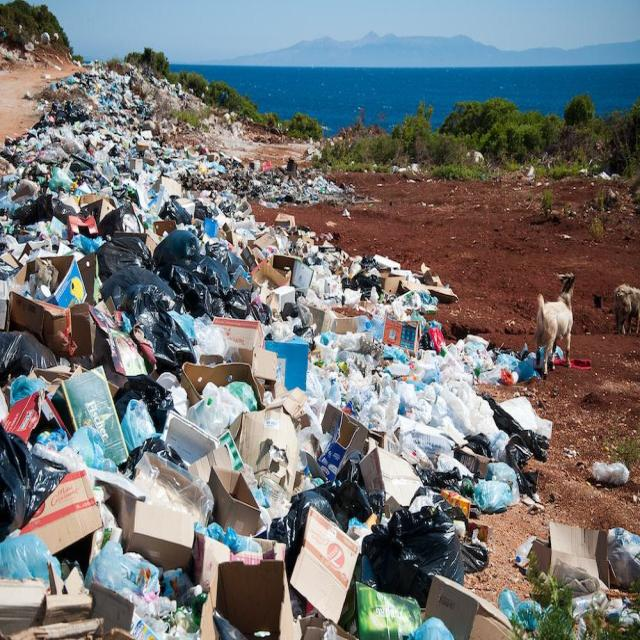cardboard: (95, 426, 228, 579), (6, 226, 85, 356), (237, 409, 299, 509)
trash: (16, 112, 444, 620), (110, 214, 236, 372), (357, 498, 466, 608)
